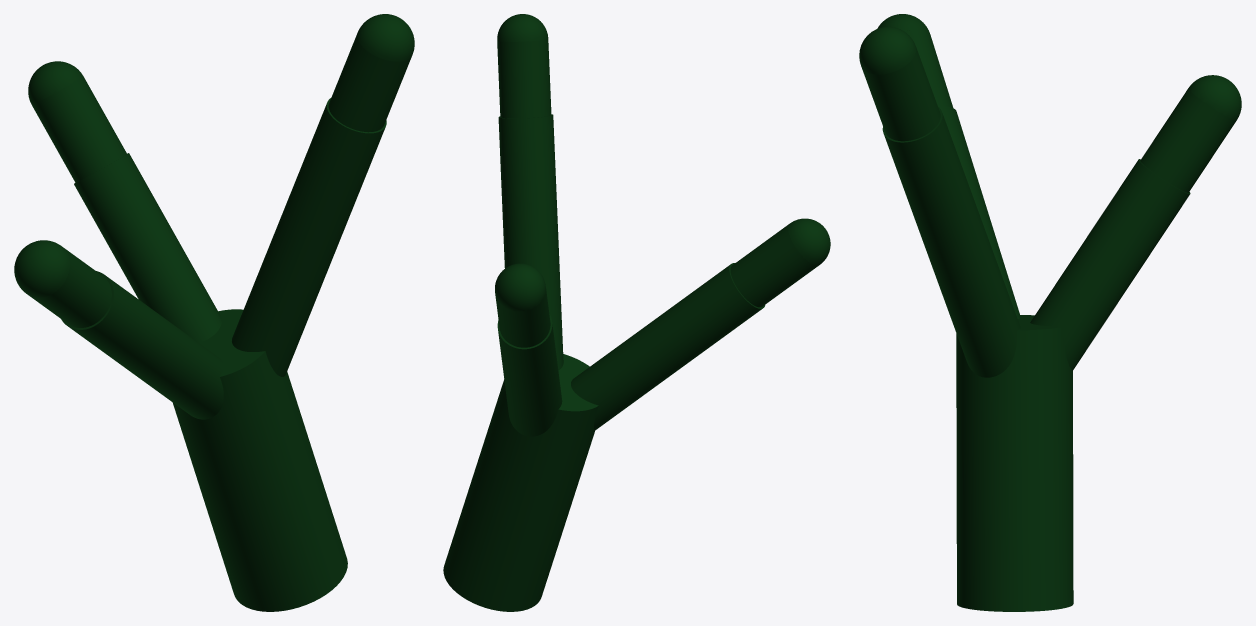
The model's file is plant_flower_stern_with_bar_and_3sterns_long_green.obj.
3 views of the same model, side by side, from view 1: azimuth 30°, elevation 25°; view 2: azimuth 150°, elevation 25°; view 3: azimuth 270°, elevation 25° (orthographic). The views are drawn at different scales.
Size of the model in its own units: 30 by 45.81 by 26.25.
